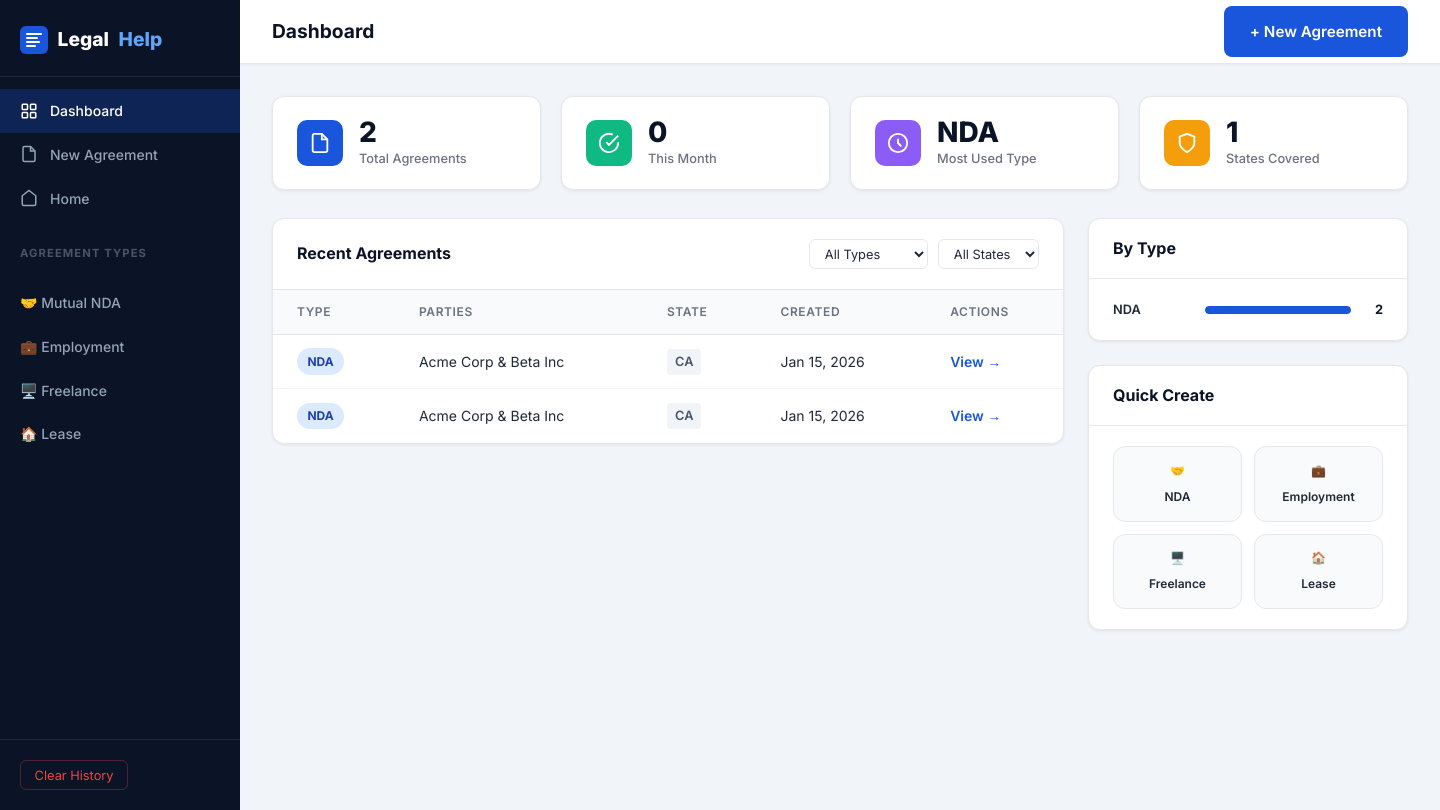
Scenario: DashboardClient — clear history › removes all agreements after confirming clear history
Click the button "Clear History" at (74,775), box top-left (20, 760), bottom-right (128, 790)
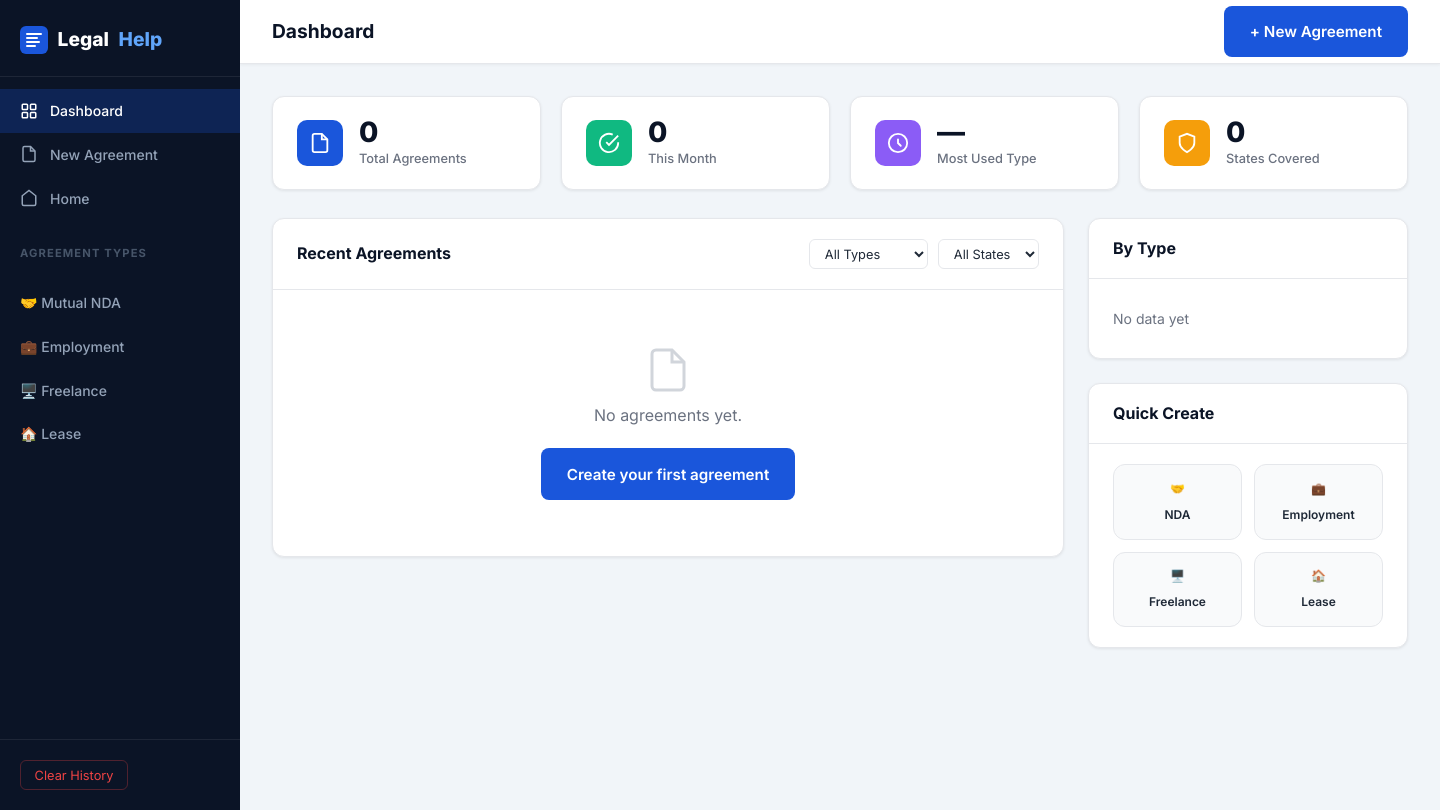
Check: the text "No agreements yet." is shown, box top-left (594, 402), bottom-right (742, 428)
